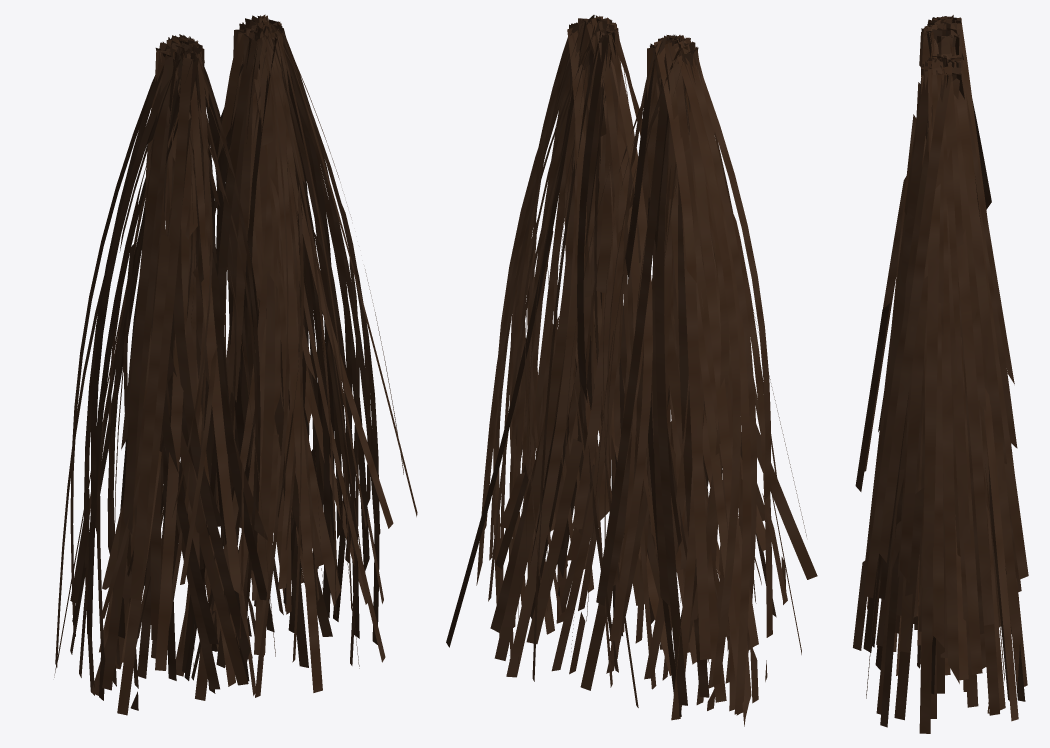
Rendered from test_haircard_v2_600.glb.
3 renders of one model, left to right at view 1: azimuth 30°, elevation 25°; view 2: azimuth 150°, elevation 25°; view 3: azimuth 270°, elevation 25°, orthographic. The views are drawn at different scales.
Parts seen in each view (by area): view 1: TestHairCardMesh; view 2: TestHairCardMesh; view 3: TestHairCardMesh.
Boxes of the visible parts, x1,y1,x2,y2 form: TestHairCardMesh: (54,14,417,715); TestHairCardMesh: (446,15,817,726); TestHairCardMesh: (853,15,1028,733).
Size of the model in its own units: 0.2383 by 0.4558 by 0.1189.
Materials: 1 (1 with a texture image).
